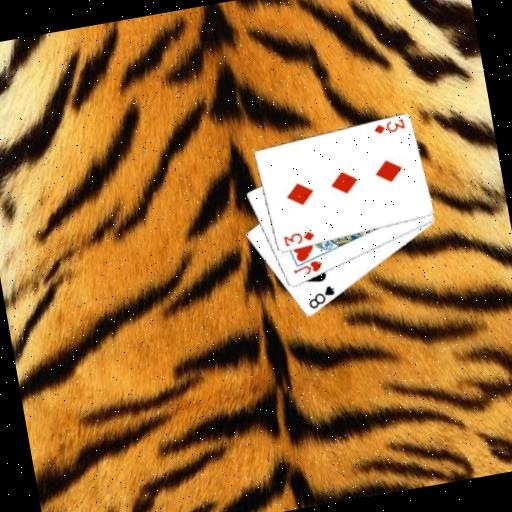3D: (280, 227, 317, 249), (369, 116, 406, 137)
8S: (303, 282, 339, 312)
JH: (289, 256, 325, 279)
